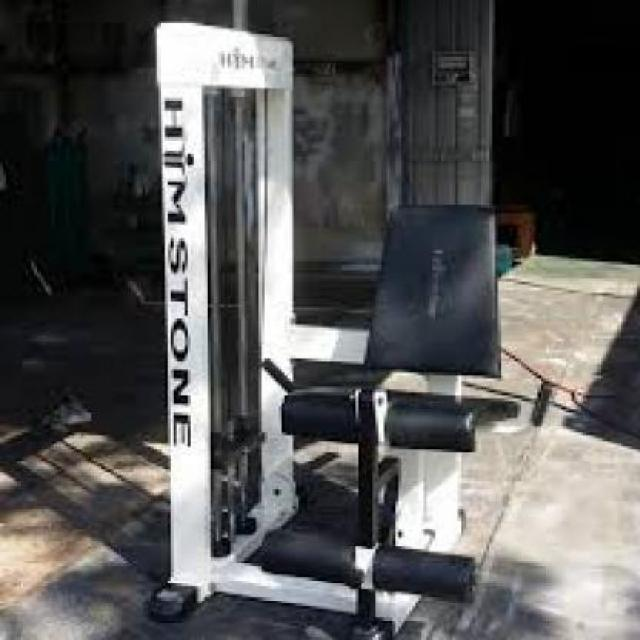leg extension: (118, 4, 539, 640)
